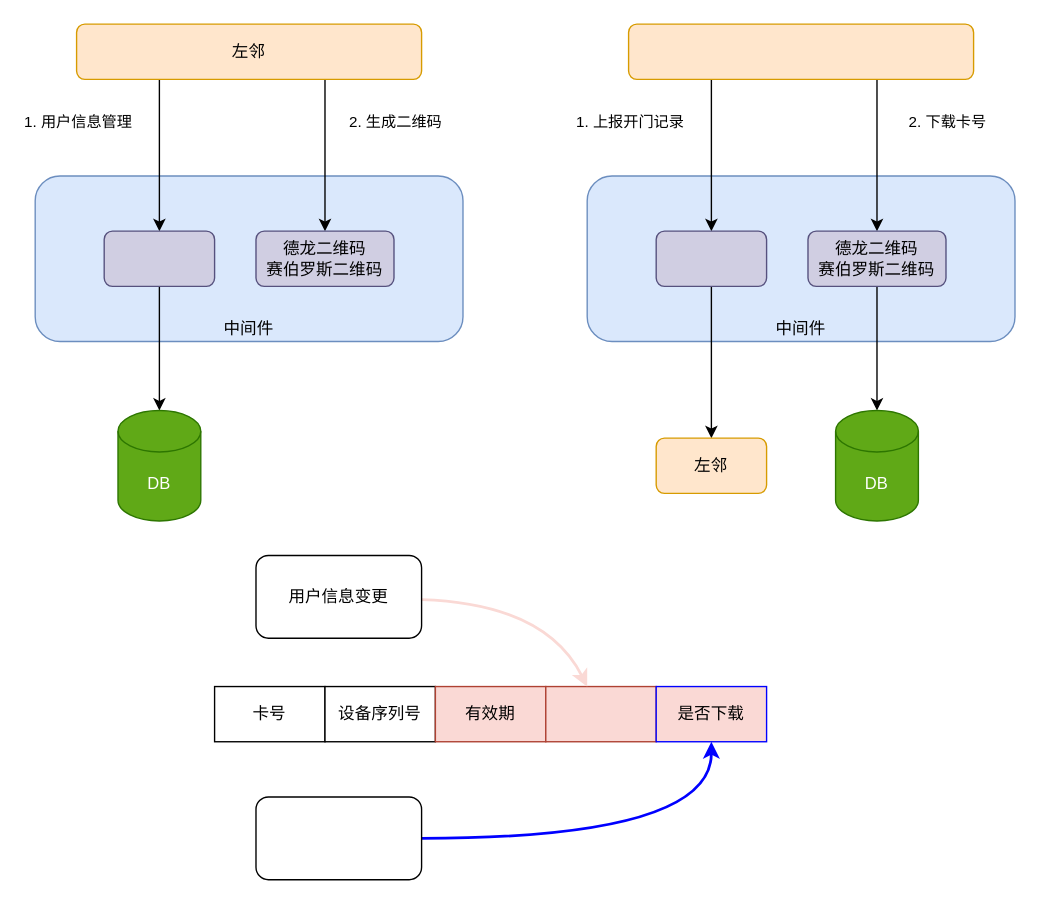
Image size: 1039x904. Some labels were removed from this diagram. Here are the shapes that lost their labels. From the top down, the centre of each, then its label:
At pixel 800 51: "设备".
At pixel 159 258: "用户信息CURD".
At pixel 711 258: "1. 卡号,时间 2. 用户,时间".
At pixel 600 713: "是否绑定".
At pixel 338 838: "卡号下载成功".
